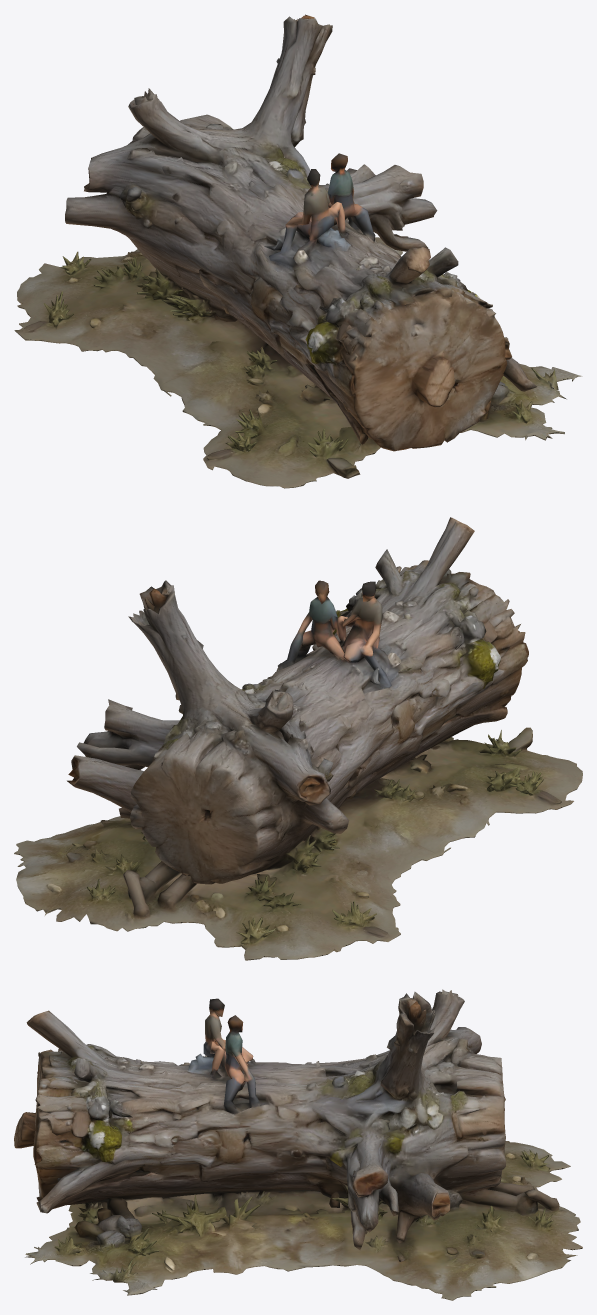
The model's file is sitting_log.glb.
The picture shows the model from 3 angles, top to bottom: view 1: azimuth 30°, elevation 25°; view 2: azimuth 150°, elevation 25°; view 3: azimuth 270°, elevation 25°; orthographic projection. The views are drawn at different scales.
Visible parts, largest first — view 1: tripo_node_0b4c8bbf-7d57-4366-9a68-d29df334e6d1; view 2: tripo_node_0b4c8bbf-7d57-4366-9a68-d29df334e6d1; view 3: tripo_node_0b4c8bbf-7d57-4366-9a68-d29df334e6d1.
Part boxes in pixels (box(x1,y1,x2,y2)): tripo_node_0b4c8bbf-7d57-4366-9a68-d29df334e6d1: box(14, 14, 582, 488); tripo_node_0b4c8bbf-7d57-4366-9a68-d29df334e6d1: box(14, 517, 582, 960); tripo_node_0b4c8bbf-7d57-4366-9a68-d29df334e6d1: box(14, 989, 582, 1300).
Size of the model in its own units: 0.5823 by 0.4 by 0.8281.
Materials: 1 (1 with a texture image).
